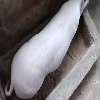heo: (9, 1, 84, 98)
